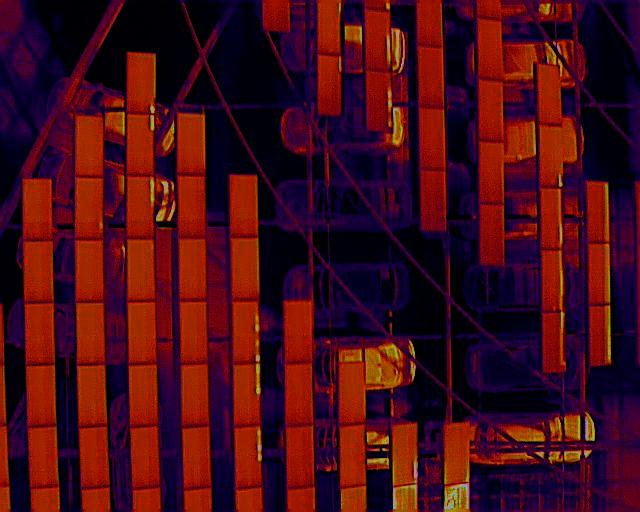Cell: (126, 52, 157, 114)
No-Anomaly: (22, 177, 53, 242), (24, 240, 53, 304), (127, 239, 156, 303), (26, 302, 55, 366), (75, 178, 104, 241), (180, 301, 209, 364), (26, 366, 55, 429), (284, 300, 313, 363), (76, 239, 104, 304), (287, 423, 314, 490), (176, 114, 205, 176), (133, 425, 160, 491), (179, 238, 207, 301), (81, 426, 109, 489), (29, 427, 57, 490), (419, 107, 446, 172), (286, 362, 313, 427), (129, 301, 156, 366), (78, 363, 105, 428), (184, 425, 211, 490), (339, 425, 366, 490), (418, 45, 445, 109), (77, 115, 104, 178), (231, 175, 258, 238), (232, 238, 259, 301), (338, 362, 365, 425), (77, 303, 104, 366), (182, 364, 209, 427), (130, 364, 157, 427), (444, 421, 469, 487), (421, 168, 446, 232), (478, 79, 503, 142), (479, 141, 504, 204), (179, 175, 204, 238), (480, 204, 505, 267), (477, 18, 502, 81), (587, 180, 610, 244), (588, 305, 612, 366), (541, 250, 564, 311), (588, 245, 611, 305), (538, 65, 560, 126), (541, 189, 563, 249), (542, 313, 564, 372), (318, 0, 342, 54)
Unclassified: (127, 113, 158, 175), (126, 176, 155, 238), (234, 362, 261, 427), (233, 302, 260, 364), (364, 9, 391, 71), (235, 426, 261, 490), (392, 422, 418, 485), (366, 70, 392, 131), (319, 54, 344, 117), (540, 126, 563, 189)
